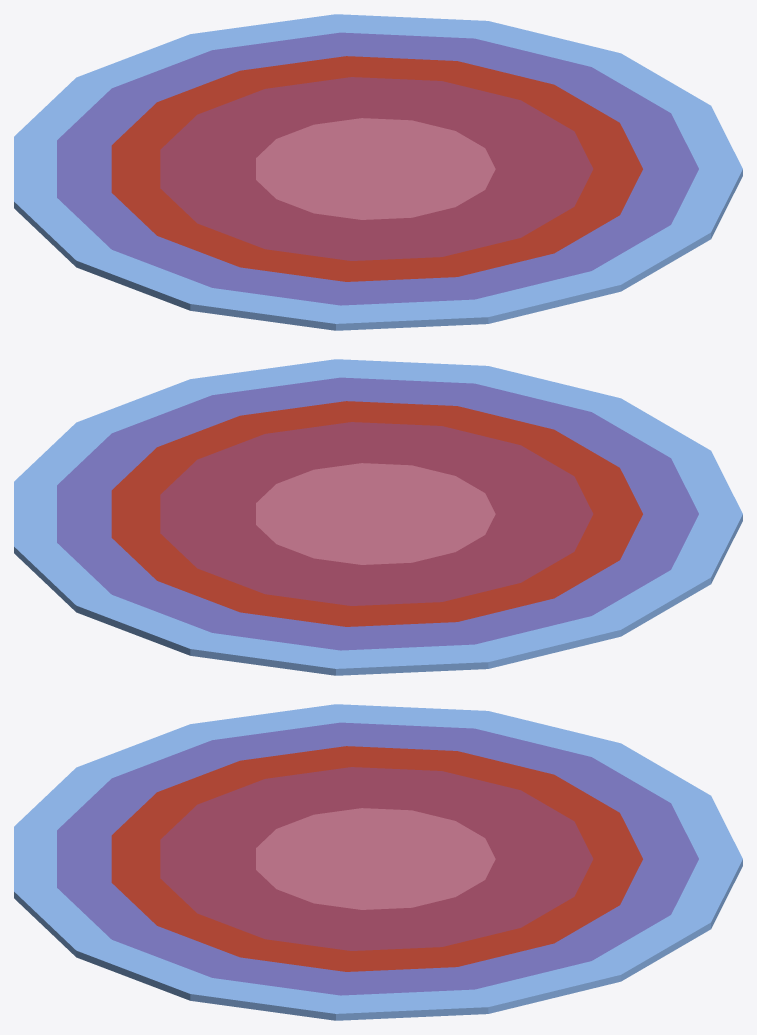
File: Carpet_01.glb
The picture shows the model from 3 angles, top to bottom: view 1: azimuth 30°, elevation 25°; view 2: azimuth 150°, elevation 25°; view 3: azimuth 270°, elevation 25°; orthographic projection.
Parts seen in each view (by area): view 1: Carpet_01; view 2: Carpet_01; view 3: Carpet_01.
Part boxes in pixels (x1,y1,x2,y2): Carpet_01: (14,14,742,330); Carpet_01: (14,359,742,675); Carpet_01: (14,704,742,1020).
Size of the model in its own units: 3.71 by 0.0384 by 3.69.
Materials: 1 (1 with a texture image).
